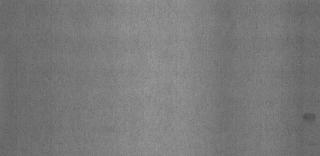oil spot: (301, 109, 317, 123)
